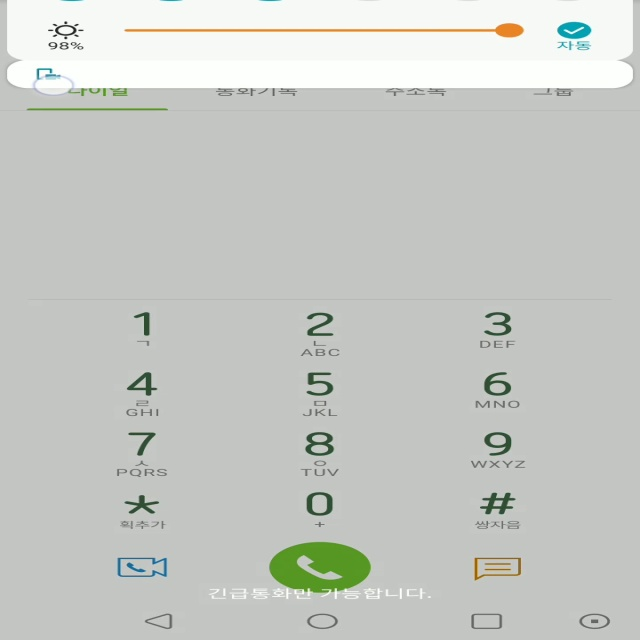Cursor: (32, 76, 76, 98)
